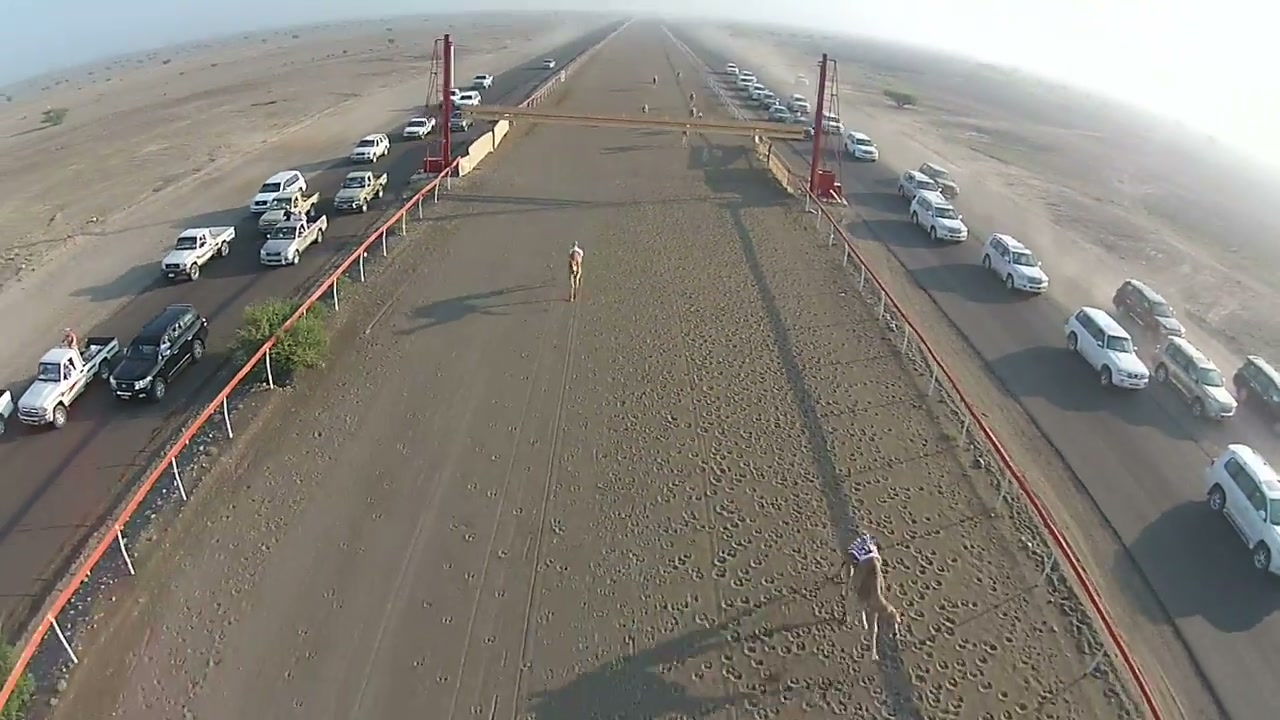animal_footprint: (824, 266, 1104, 708), (571, 286, 862, 709), (382, 311, 586, 704)
